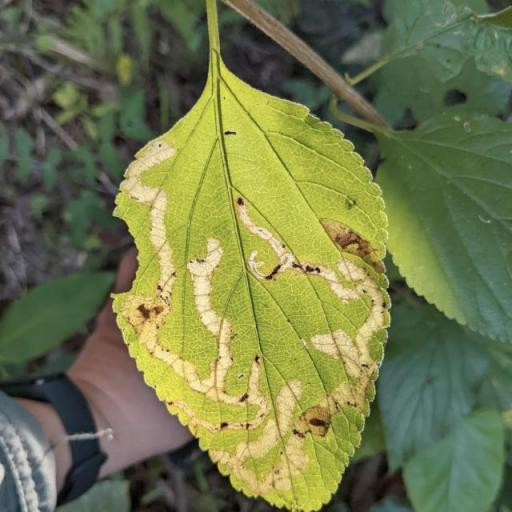Leaf Miner: (110, 78, 392, 512)
